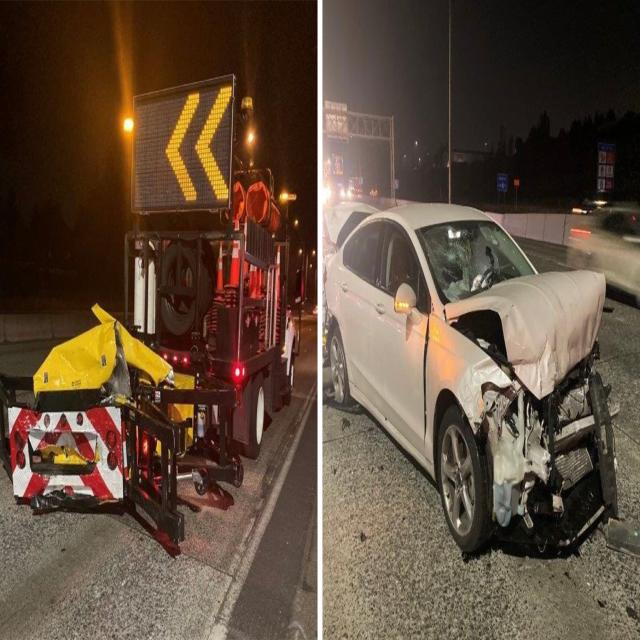Accident: (3, 61, 298, 554), (321, 196, 621, 564)
